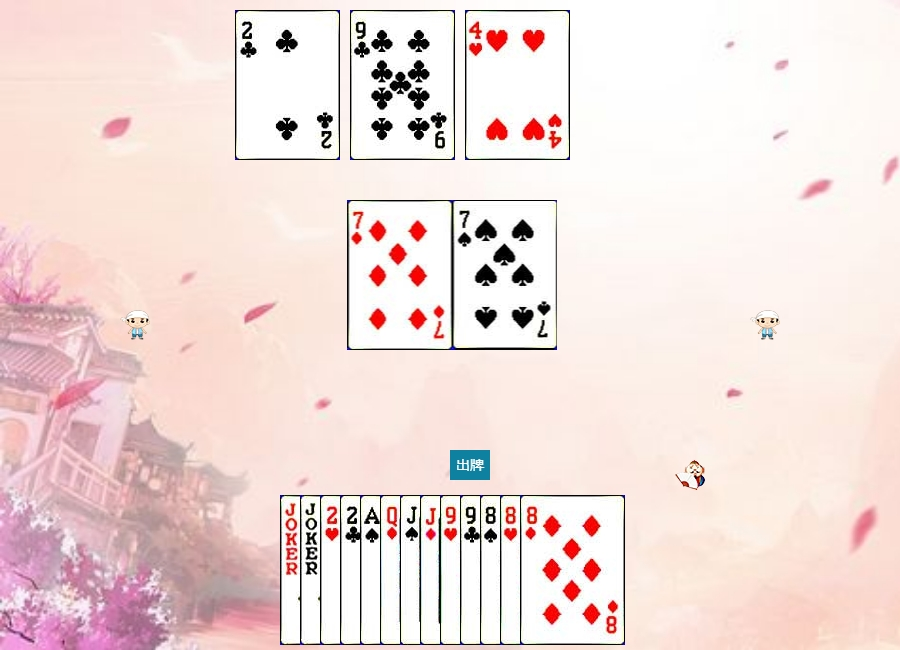11~1: (420, 495, 525, 645)
11~4: (400, 495, 505, 645)
12~1: (380, 495, 485, 645)
14~4: (360, 495, 465, 645)
15~2: (235, 10, 340, 160), (340, 495, 445, 645)
15~3: (320, 495, 425, 645)
17~3: (300, 495, 405, 645)
18~4: (280, 495, 385, 645)
4~3: (465, 10, 570, 160)
7~1: (348, 200, 453, 350)
7~4: (453, 200, 558, 350)
8~1: (520, 495, 625, 645)
8~3: (500, 495, 605, 645)
8~4: (480, 495, 585, 645)
9~2: (350, 10, 455, 160), (460, 495, 565, 645)
9~3: (440, 495, 545, 645)
